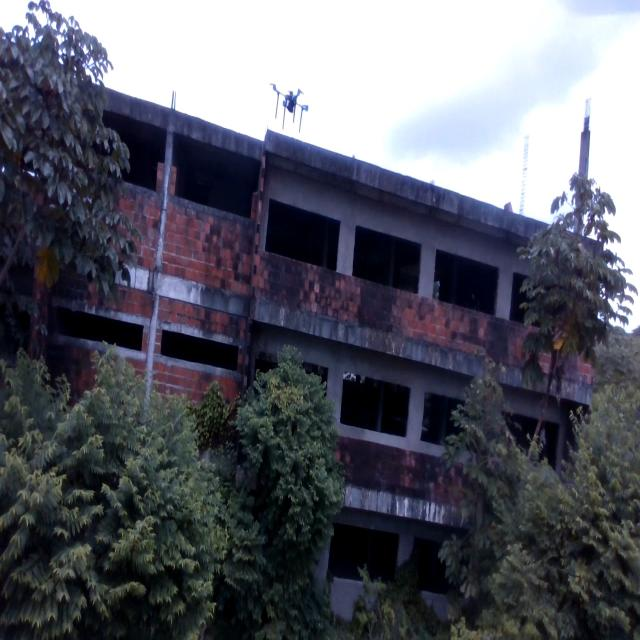-uav-: (264, 61, 318, 148)
